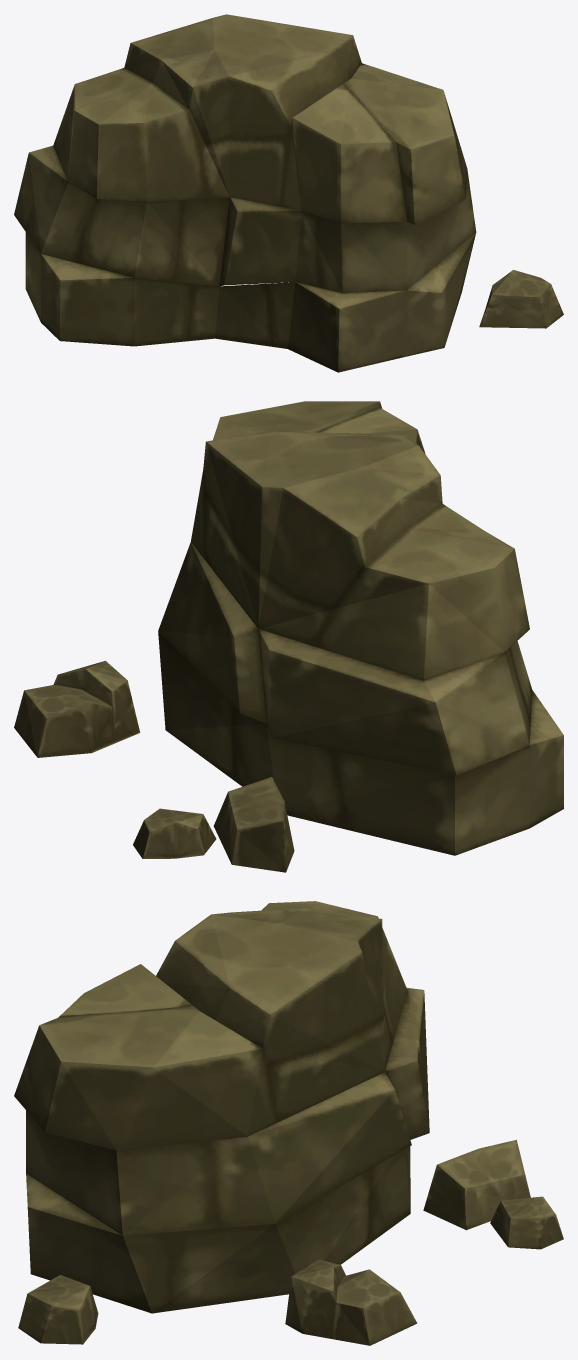
Rendered from rockwall_corner_01.fbx.
The picture shows the model from 3 angles, top to bottom: view 1: azimuth 30°, elevation 25°; view 2: azimuth 150°, elevation 25°; view 3: azimuth 270°, elevation 25°; orthographic projection. The views are drawn at different scales.
Visible parts, largest first — view 1: obj0.130; view 2: obj0.130; view 3: obj0.130.
Part boxes in pixels (x1,y1,x2,y2): obj0.130: (14,14,563,372); obj0.130: (14,401,563,872); obj0.130: (14,901,563,1345).
Bounding box in the file's own units: 3.91 × 2.26 × 3.97.
